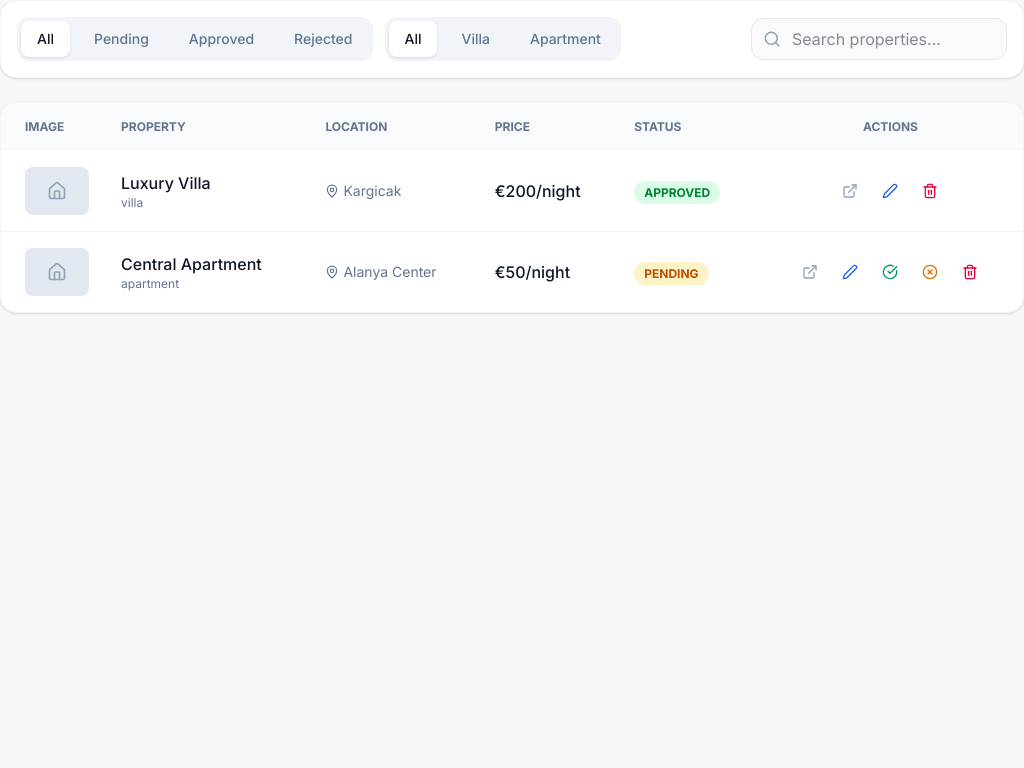
Test: PropertiesPage › openActionModal: opens delete confirmation modal
expect the text "Luxury Villa" is shown: met, box [121,173,211,193]
Note: Delete buttons rendered for all properties — first one is Luxury Villa
Click the button titled "Delete" in the row of "Luxury Villa" at {"x": 930, "y": 191}, box [914,175,946,207]
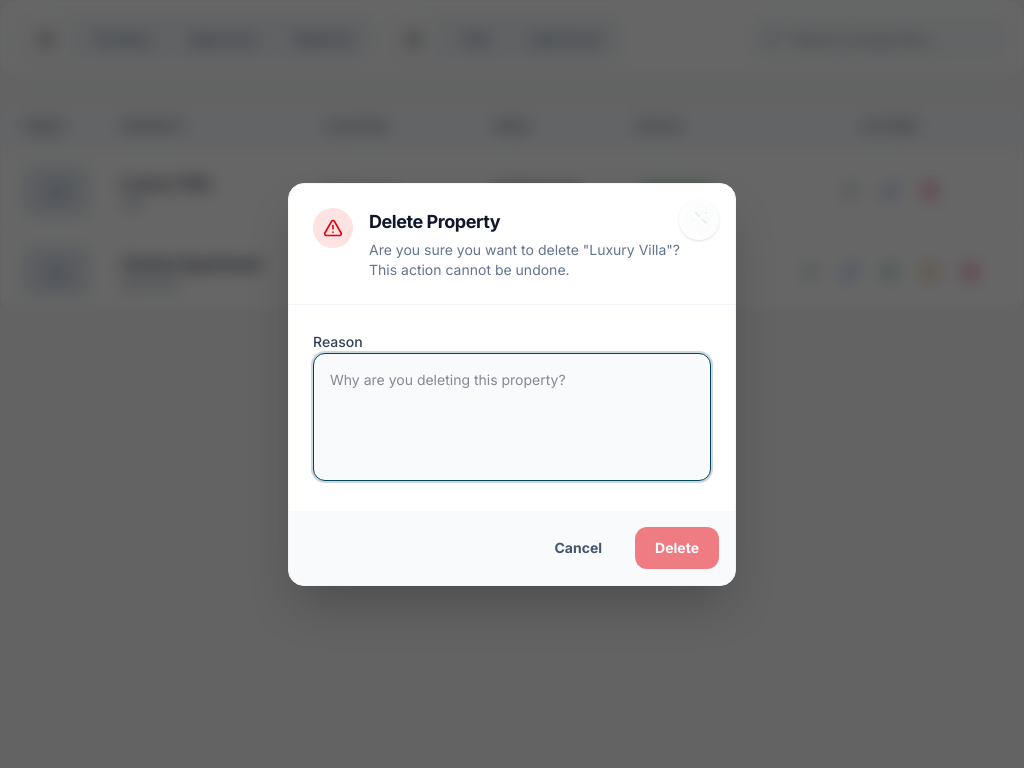
expect the heading "Delete Property" is shown: met, box [369,210,500,232]
